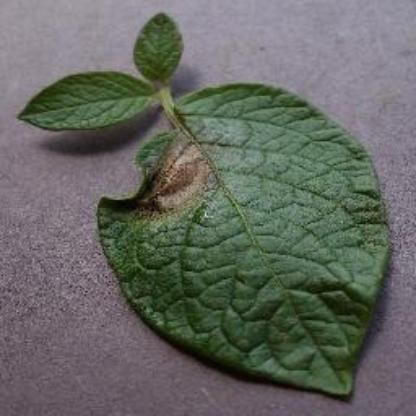Late-Blight: (104, 70, 400, 400)
